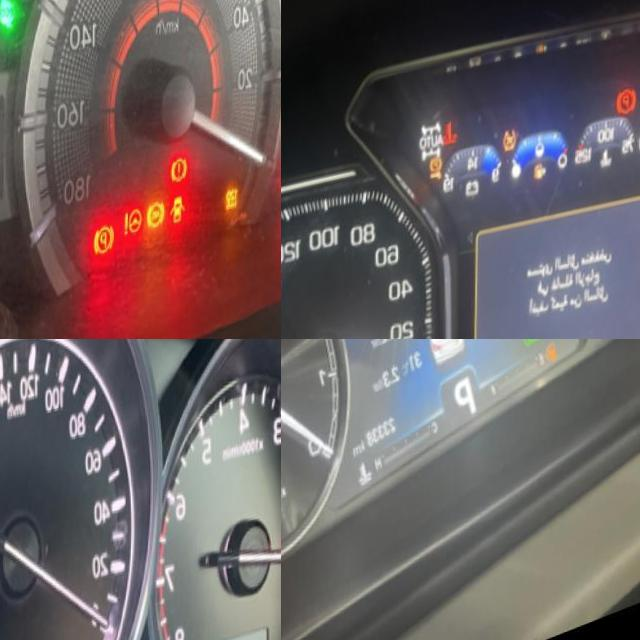Electronic Power Steering: (116, 216, 144, 258)
Engine cooling system: (442, 124, 459, 155)
